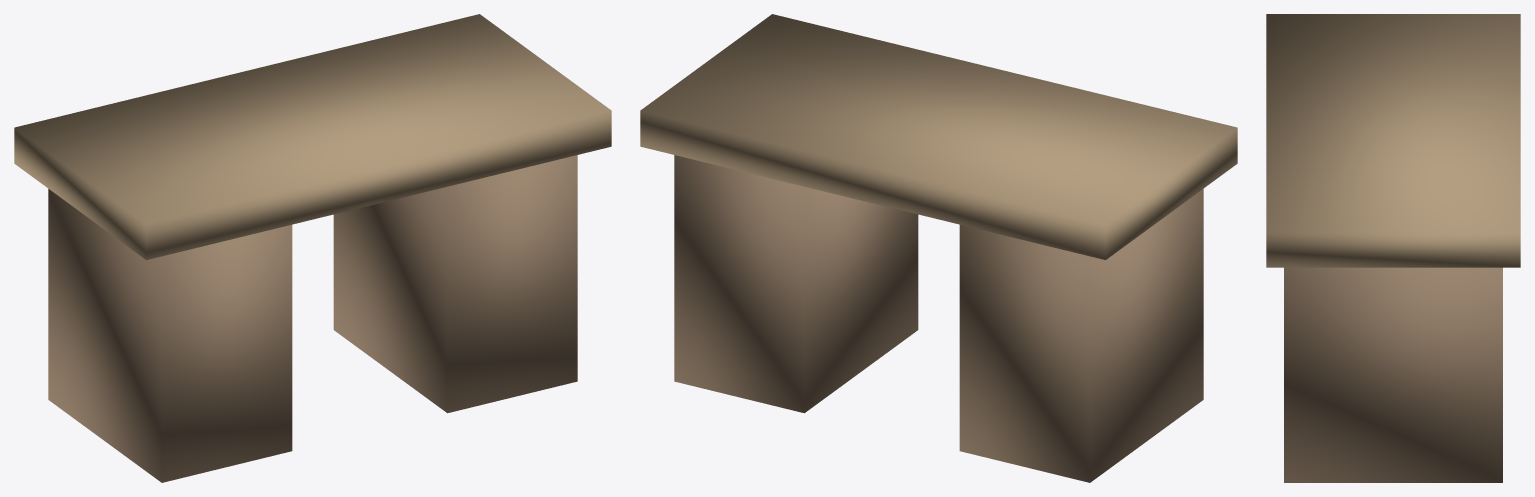
Rendered from teacher_desk__compact.glb.
3 views of the same model, side by side, from view 1: azimuth 30°, elevation 25°; view 2: azimuth 150°, elevation 25°; view 3: azimuth 270°, elevation 25° (orthographic). The views are drawn at different scales.
Parts seen in each view (by area): view 1: world; view 2: world; view 3: world.
Boxes of the visible parts, box(x1,y1,x2,y2) form: world: box(14, 14, 611, 482); world: box(640, 14, 1237, 482); world: box(1266, 14, 1520, 482).
Bounding box in the file's own units: 1.26 × 0.7021 × 0.6192.
